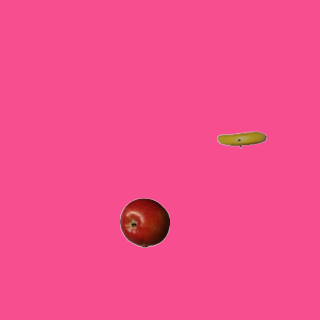Apple Braeburn: (119, 197, 169, 247)
Banana: (216, 114, 266, 164)
